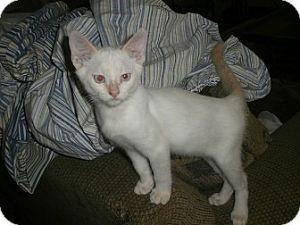siamese: (66, 21, 155, 114)
